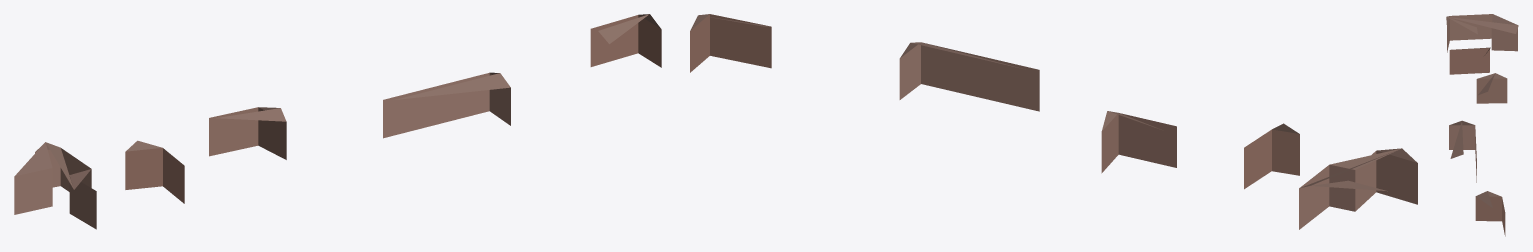
The model's file is c_1639_17835_buildings_residential.glb.
3 views of the same model, side by side, from view 1: azimuth 30°, elevation 25°; view 2: azimuth 150°, elevation 25°; view 3: azimuth 270°, elevation 25° (orthographic). The views are drawn at different scales.
Visible parts, largest first — view 1: geometry_0; view 2: geometry_0; view 3: geometry_0.
Boxes of the visible parts, left/top/right/bottom form: geometry_0: left=14, top=14, right=661, bottom=229; geometry_0: left=690, top=14, right=1417, bottom=229; geometry_0: left=1446, top=14, right=1518, bottom=236.
Bounding box in the file's own units: 156 × 10.68 × 23.92.
